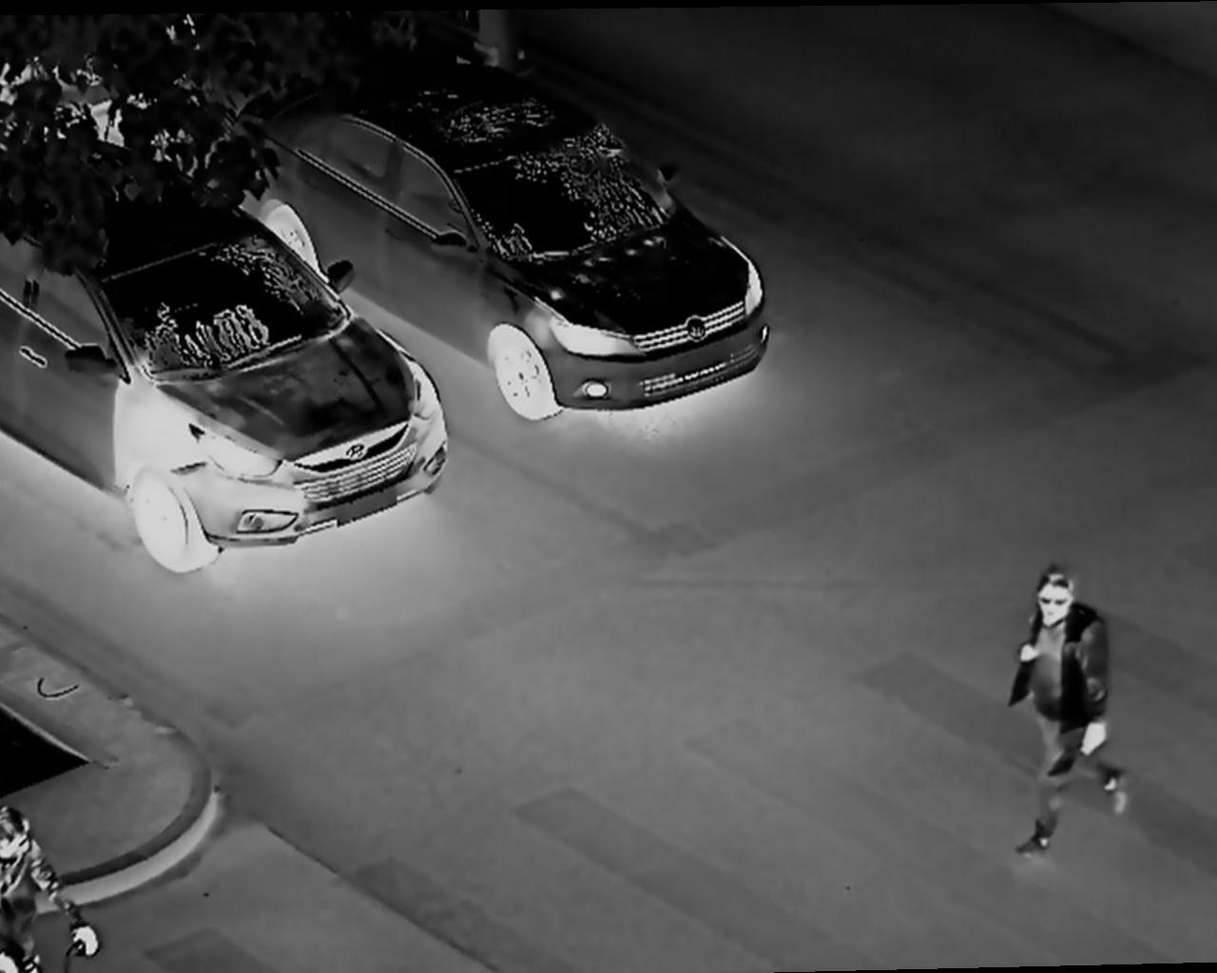person: (1012, 564, 1134, 867)
